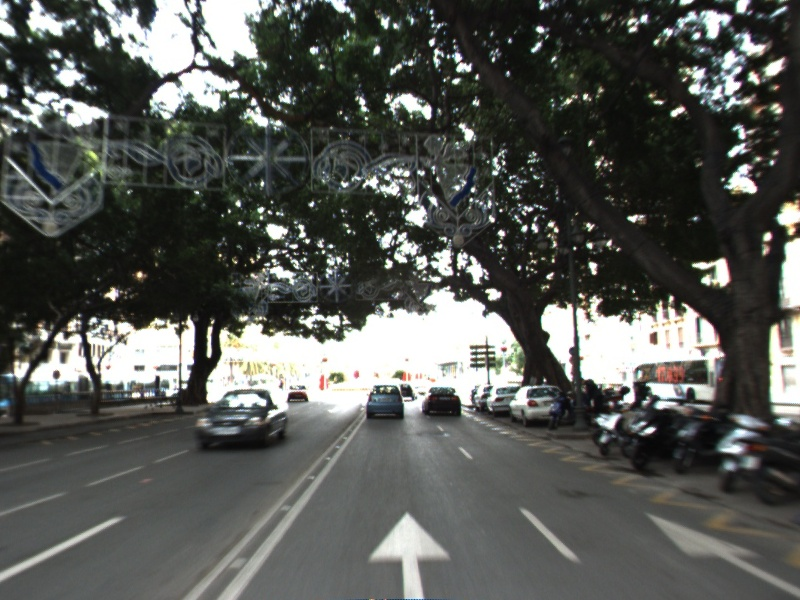STRAIGHT: (640, 507, 800, 597), (363, 507, 455, 600)
